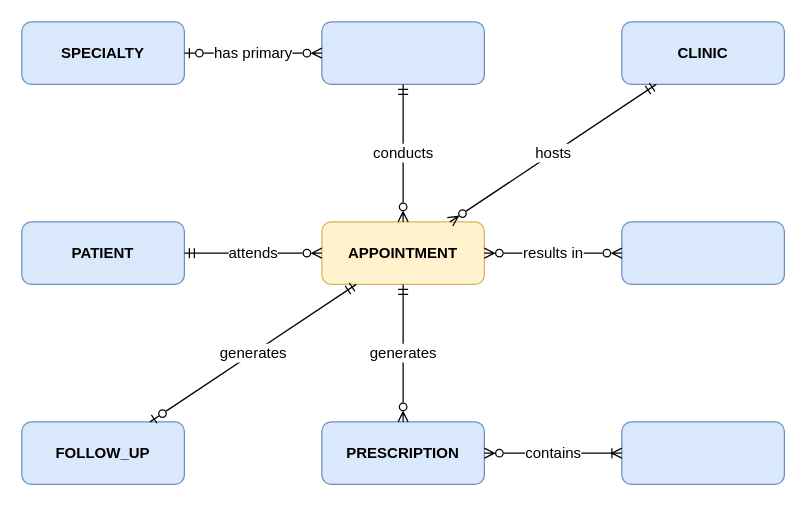
This 806x506 diagram has some shape labels left out. The box of each missing label's shape, as (x1, y1, x2, y2) in pixels:
CLINICIAN: (321, 21, 484, 84)
DIAGNOSIS: (621, 221, 784, 284)
MEDICINE: (621, 421, 784, 484)
